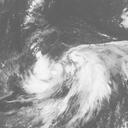cyclone: (19, 43, 112, 123)
